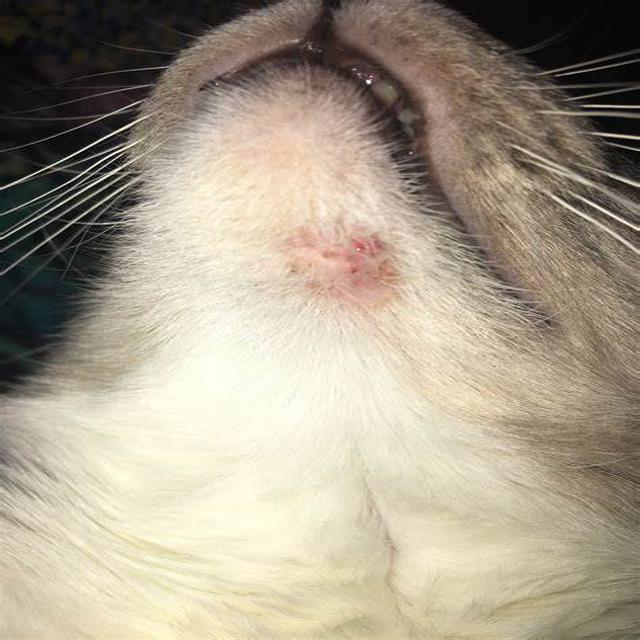acne: (304, 221, 402, 307)
